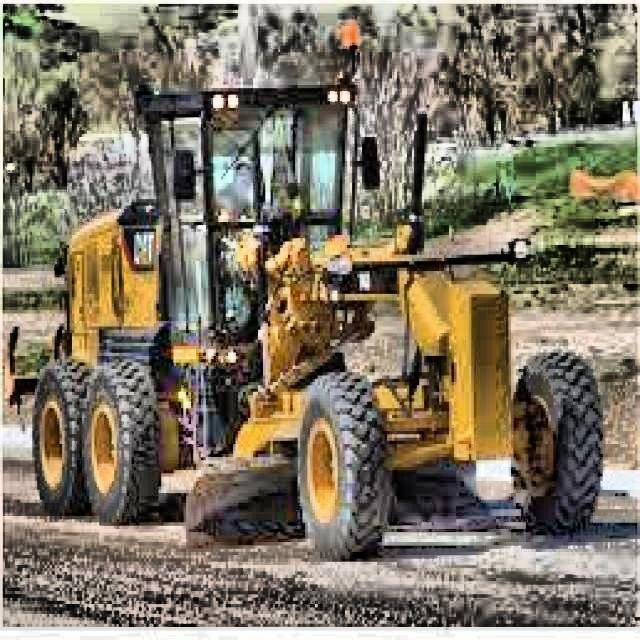bull_dozer/loader/grader: (2, 70, 607, 558)
person: (218, 152, 257, 225)
